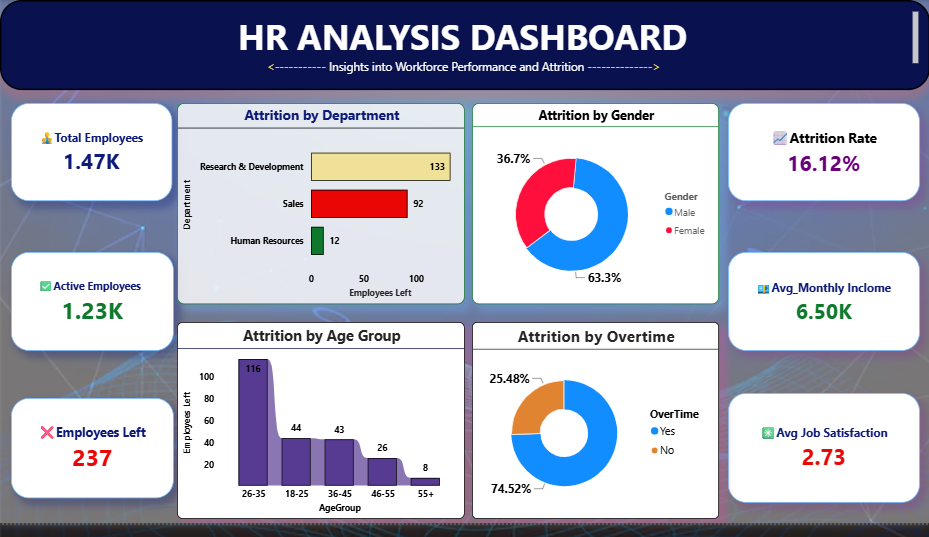

The dashboard page shown, as its layout file describes it:
{"tool":"powerbi","page":{"name":"HR_Interface","canvas":[1280,720],"ordinal":0},"visuals":[{"type":"textbox","box":[0,0,1280,123.9],"z":0},{"type":"cardVisual","fields":{"Data":["HR_Analytics.Total Employees"]},"box":[15.1,141.8,221.6,134.9],"z":1000},{"type":"cardVisual","fields":{"Data":["HR_Analytics.Active Employees"]},"box":[15.1,346.8,224.3,136.3],"z":2000},{"type":"cardVisual","fields":{"Data":["HR_Analytics.Employees Left"]},"box":[15.1,547.8,224.3,137.6],"z":3000},{"type":"cardVisual","fields":{"Data":["HR_Analytics.Attrition Rate"]},"box":[1002,141.8,264.3,134.9],"z":4000},{"type":"cardVisual","fields":{"Data":["Avg(HR_Analytics.MonthlyIncome)"]},"box":[1002,346.8,264.3,136.3],"z":5000},{"type":"cardVisual","fields":{"Data":["Avg(HR_Analytics.JobSatisfaction)"]},"box":[1002,540.9,264.3,151.4],"z":6000},{"type":"clusteredBarChart","title":"Attrition by Department","fields":{"Category":["HR_Analytics.Department"],"Y":["HR_Analytics.Employees Left"]},"box":[243.6,141.8,396.4,276.6],"z":7000},{"type":"donutChart","title":"Attrition by Gender","fields":{"Category":["HR_Analytics.Gender"],"Y":["HR_Analytics.Employees Left"]},"box":[649.6,141.8,340,276.6],"z":8000},{"type":"columnChart","title":"Attrition by Age Group","fields":{"Y":["HR_Analytics.Employees Left"],"Category":["HR_Analytics.AgeGroup"]},"box":[243.6,443.2,396.4,271.1],"z":9000},{"type":"donutChart","title":"Attrition by Overtime","fields":{"Category":["HR_Analytics.OverTime"],"Y":["HR_Analytics.Attrition Rate"]},"box":[649.6,443.2,340,271.1],"z":10000}]}

Visuals, with their boxes in screenshot pixels (x1, y1, x2, y2), scaled from the page's 1280x720 canvas onto the 929x537 screenshot:
textbox: x1=0 y1=0 x2=928 y2=92
cardVisual - HR_Analytics.Total Employees: x1=11 y1=106 x2=172 y2=206
cardVisual - HR_Analytics.Active Employees: x1=11 y1=259 x2=174 y2=360
cardVisual - HR_Analytics.Employees Left: x1=11 y1=409 x2=174 y2=511
cardVisual - HR_Analytics.Attrition Rate: x1=727 y1=106 x2=919 y2=206
cardVisual - Avg(HR_Analytics.MonthlyIncome): x1=727 y1=259 x2=919 y2=360
cardVisual - Avg(HR_Analytics.JobSatisfaction): x1=727 y1=403 x2=919 y2=516
"Attrition by Department" clusteredBarChart: x1=177 y1=106 x2=464 y2=312
"Attrition by Gender" donutChart: x1=471 y1=106 x2=718 y2=312
"Attrition by Age Group" columnChart: x1=177 y1=331 x2=464 y2=533
"Attrition by Overtime" donutChart: x1=471 y1=331 x2=718 y2=533
